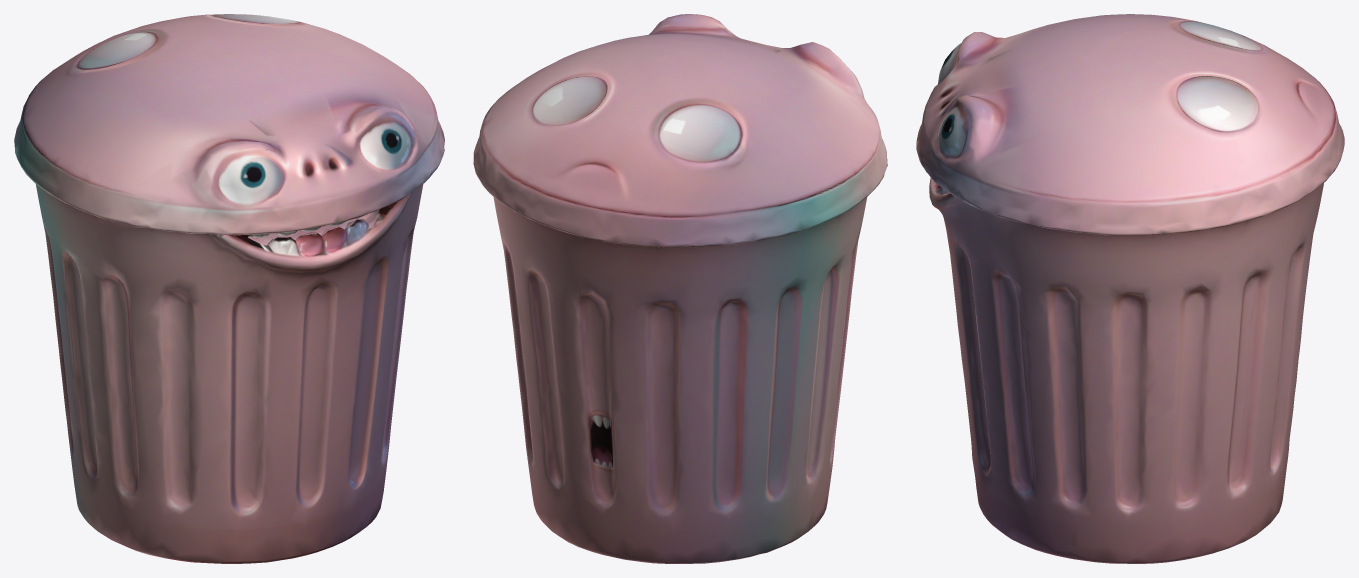
Rendered from A_small_indoor_condo__1128001814_texture.fbx.
3 renders of one model, left to right at view 1: azimuth 30°, elevation 25°; view 2: azimuth 150°, elevation 25°; view 3: azimuth 270°, elevation 25°, orthographic. The views are drawn at different scales.
Parts seen in each view (by area): view 1: Mesh_0; view 2: Mesh_0; view 3: Mesh_0.
Part boxes in pixels (x1,y1,x2,y2): Mesh_0: (14,14,444,563); Mesh_0: (473,14,887,563); Mesh_0: (916,14,1344,563).
Bounding box in the file's own units: 172 × 200 × 172.
1 material, 1 textured.
